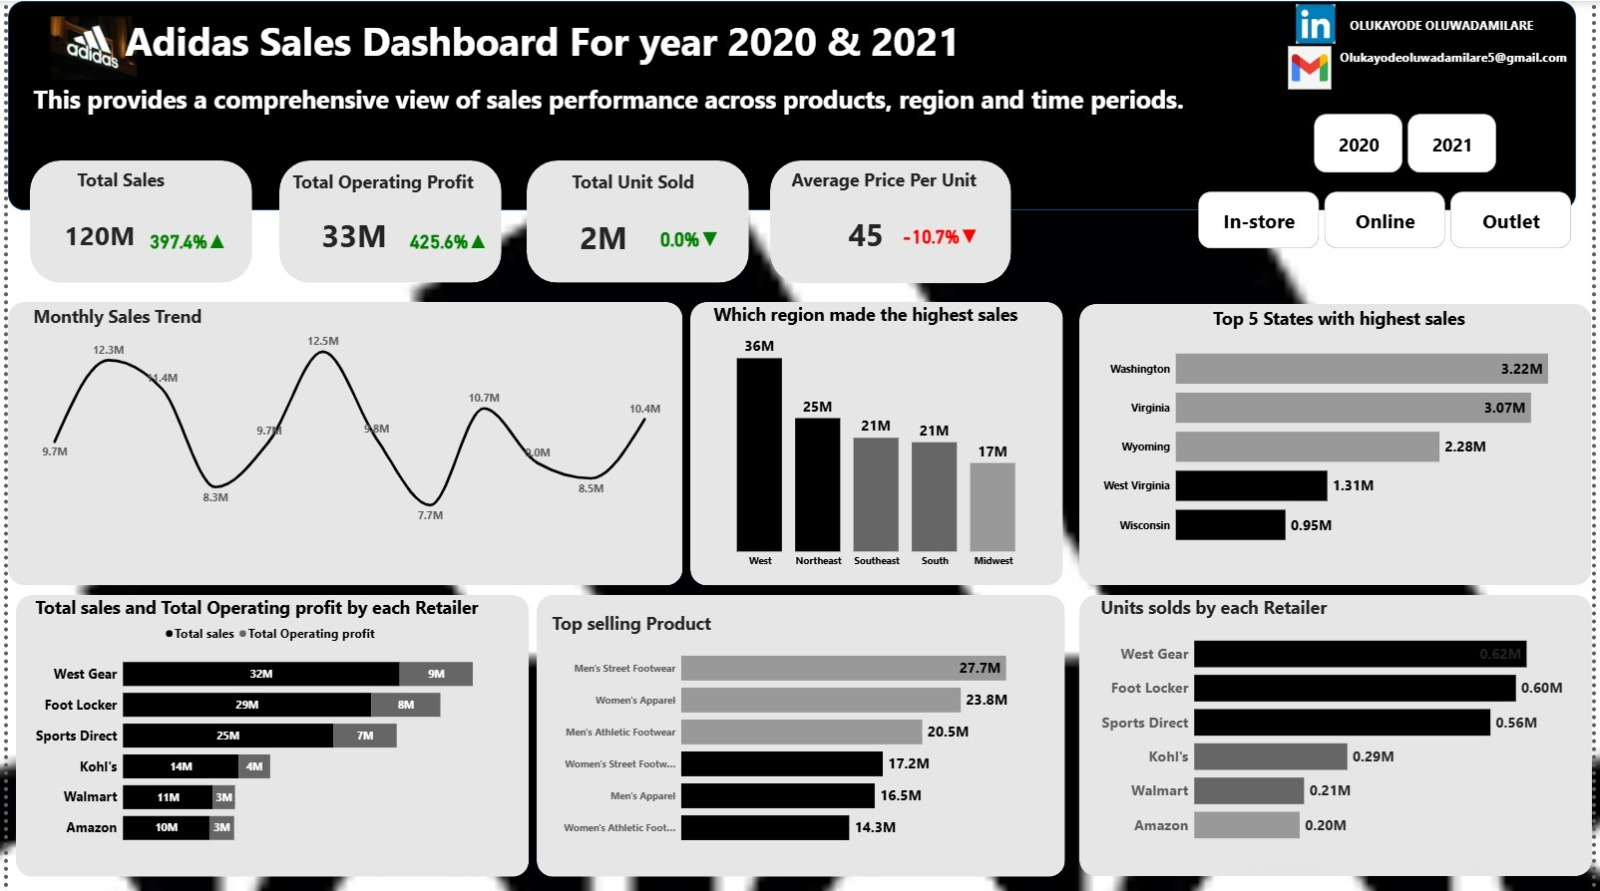

Layout of this report page (visuals, bound fields, positions):
{"tool":"powerbi","page":{"name":"ADIDAS DASHBOARD","canvas":[2400,1400],"ordinal":3},"visuals":[{"type":"shape","box":[0,0,2376.7,317.5],"z":0},{"type":"image","box":[57.5,18.1,145.1,105.8],"z":1000},{"type":"textbox","box":[171.1,15.6,2227.6,108.9],"z":2000},{"type":"textbox","box":[33.3,117.9,2367.6,78.6],"z":3000},{"type":"advancedSlicerVisual","fields":{"Values":["Calender.Year"]},"box":[2032,142.1,287.3,99.8],"z":4000},{"type":"advancedSlicerVisual","fields":{"Values":["Sheet1.Sales Method"]},"box":[1738.7,266.1,577.5,96.8],"z":5000},{"type":"shape","box":[34.6,241.9,336.9,185.7],"z":6000},{"type":"shape","box":[1154.6,241,365.4,186.6],"z":7000},{"type":"shape","box":[786.2,241.9,336.9,185.7],"z":8000},{"type":"shape","box":[410.4,241.9,336.9,185.7],"z":9000},{"type":"card","fields":{"Values":["Calender.Total sales"]},"box":[33.3,317.5,211.7,72.6],"z":10000},{"type":"card","fields":{"Values":["Calender.Total Operating profit"]},"box":[426.3,278.2,196.5,151.2],"z":11000},{"type":"textbox","box":[99.8,247.9,205.6,69.5],"z":12000},{"type":"textbox","box":[426.3,251,335.6,66.5],"z":13000},{"type":"card","fields":{"Values":["Calender.Total unit sold"]},"box":[771.1,293.3,263.1,127],"z":14000},{"type":"textbox","box":[849.7,251,338.7,81.6],"z":15000},{"type":"card","fields":{"Values":["Calender.Average price per unit"]},"box":[1218.6,293.3,163.3,117.9],"z":16000},{"type":"textbox","box":[1182.3,247.9,338.7,72.6],"z":17000},{"type":"shape","box":[0,457.5,1022.5,430],"z":18000},{"type":"lineChart","title":"Monthly Sales Trend","fields":{"Y":["Sum(Sheet1.Total Sales)"],"Category":["Calender.Month"]},"box":[33.7,458.7,969.3,344.7],"z":19000},{"type":"shape","box":[1035,457.5,565,430],"z":20000},{"type":"shape","box":[11.7,901.9,777.5,427.6],"z":21000},{"type":"shape","box":[800.9,901.9,800.9,427.6],"z":22000},{"type":"barChart","title":"Total sales and Total Operating profit by each Retailer","fields":{"Category":["Sheet1.Retailer"],"Y":["Calender.Grand total sales","Calender.Total operating profit"]},"box":[35,901.9,727,396.5],"z":23000},{"type":"barChart","title":"Top selling Product","fields":{"Category":["Sheet1.Product"],"Y":["Calender.Grand total sales"]},"box":[820.3,925.3,750.3,373.2],"z":24000},{"type":"columnChart","title":"Which region made the highest sales","fields":{"Category":["Sheet1.Region"],"Y":["Sum(Sheet1.Total Sales)"]},"box":[1065,457.5,505,412.5],"z":25000},{"type":"shape","box":[1623.8,901.1,777.1,426.3],"z":26000},{"type":"shape","box":[1623.5,458.8,776.5,426.5],"z":27000},{"type":"barChart","title":"Top 5 States with highest sales","fields":{"Y":["Calender.Total sales"],"Category":["Sheet1.State"]},"box":[1652.9,461.8,726.5,385.3],"z":28000},{"type":"barChart","title":"Units solds by each Retailer","fields":{"Y":["Sum(Sheet1.Units Sold)"],"Category":["Sheet1.Retailer"]},"box":[1651,901.1,725.7,396.1],"z":29000},{"type":"image","box":[1932.2,0,99.8,69.5],"z":30000},{"type":"textbox","box":[2028.9,18.1,302.4,39.3],"z":31000},{"type":"image","box":[1932.2,63.5,81.6,75.6],"z":32000},{"type":"textbox","box":[2013.8,66.5,362.9,57.5],"z":33000},{"type":"card","fields":{"Values":["Calender.YOY SALES"]},"box":[172.4,281.2,202.6,166.3],"z":34000},{"type":"card","fields":{"Values":["Calender.YOY profit"]},"box":[589.6,284.2,157.2,160.3],"z":35000},{"type":"card","fields":{"Values":["Calender.YOY PRICE"]},"box":[1336.5,266.1,154.2,181.4],"z":36000},{"type":"card","fields":{"Values":["Calender.YOY UNIT SOLD"]},"box":[955.5,281.2,157.2,157.2],"z":37000}]}

Visuals, with their boxes on the page's 2400x1400 design canvas (x1, y1, x2, y2). These are canvas units, not pixel positions in the 1600x891 screenshot, which may show the page scaled, cropped or inside an application window:
shape: crop(0, 0, 2377, 318)
image: crop(58, 18, 203, 124)
textbox: crop(171, 16, 2399, 124)
textbox: crop(33, 118, 2401, 196)
advancedSlicerVisual - Calender.Year: crop(2032, 142, 2319, 242)
advancedSlicerVisual - Sheet1.Sales Method: crop(1739, 266, 2316, 363)
shape: crop(35, 242, 372, 428)
shape: crop(1155, 241, 1520, 428)
shape: crop(786, 242, 1123, 428)
shape: crop(410, 242, 747, 428)
card - Calender.Total sales: crop(33, 318, 245, 390)
card - Calender.Total Operating profit: crop(426, 278, 623, 429)
textbox: crop(100, 248, 305, 317)
textbox: crop(426, 251, 762, 318)
card - Calender.Total unit sold: crop(771, 293, 1034, 420)
textbox: crop(850, 251, 1188, 333)
card - Calender.Average price per unit: crop(1219, 293, 1382, 411)
textbox: crop(1182, 248, 1521, 320)
shape: crop(0, 458, 1022, 888)
"Monthly Sales Trend" lineChart: crop(34, 459, 1003, 803)
shape: crop(1035, 458, 1600, 888)
shape: crop(12, 902, 789, 1330)
shape: crop(801, 902, 1602, 1330)
"Total sales and Total Operating profit by each Retailer" barChart: crop(35, 902, 762, 1298)
"Top selling Product" barChart: crop(820, 925, 1571, 1298)
"Which region made the highest sales" columnChart: crop(1065, 458, 1570, 870)
shape: crop(1624, 901, 2401, 1327)
shape: crop(1624, 459, 2400, 885)
"Top 5 States with highest sales" barChart: crop(1653, 462, 2379, 847)
"Units solds by each Retailer" barChart: crop(1651, 901, 2377, 1297)
image: crop(1932, 0, 2032, 70)
textbox: crop(2029, 18, 2331, 57)
image: crop(1932, 64, 2014, 139)
textbox: crop(2014, 66, 2377, 124)
card - Calender.YOY SALES: crop(172, 281, 375, 448)
card - Calender.YOY profit: crop(590, 284, 747, 444)
card - Calender.YOY PRICE: crop(1336, 266, 1491, 448)
card - Calender.YOY UNIT SOLD: crop(956, 281, 1113, 438)
